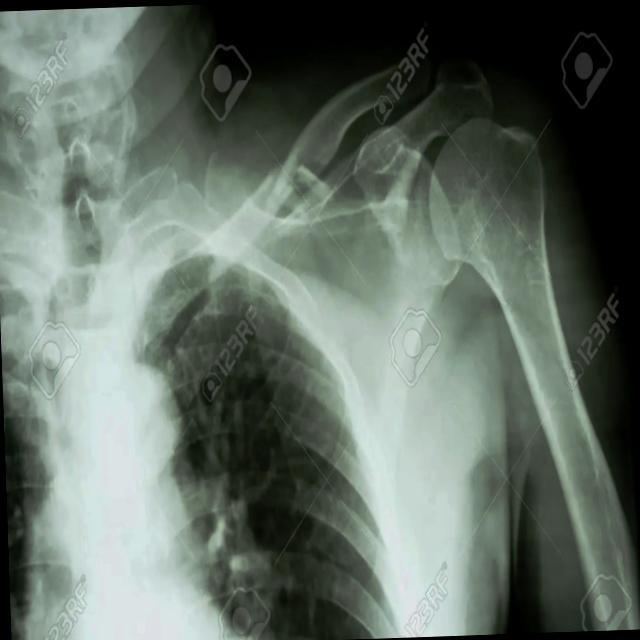Comminuted Fracture: (366, 64, 508, 152)
